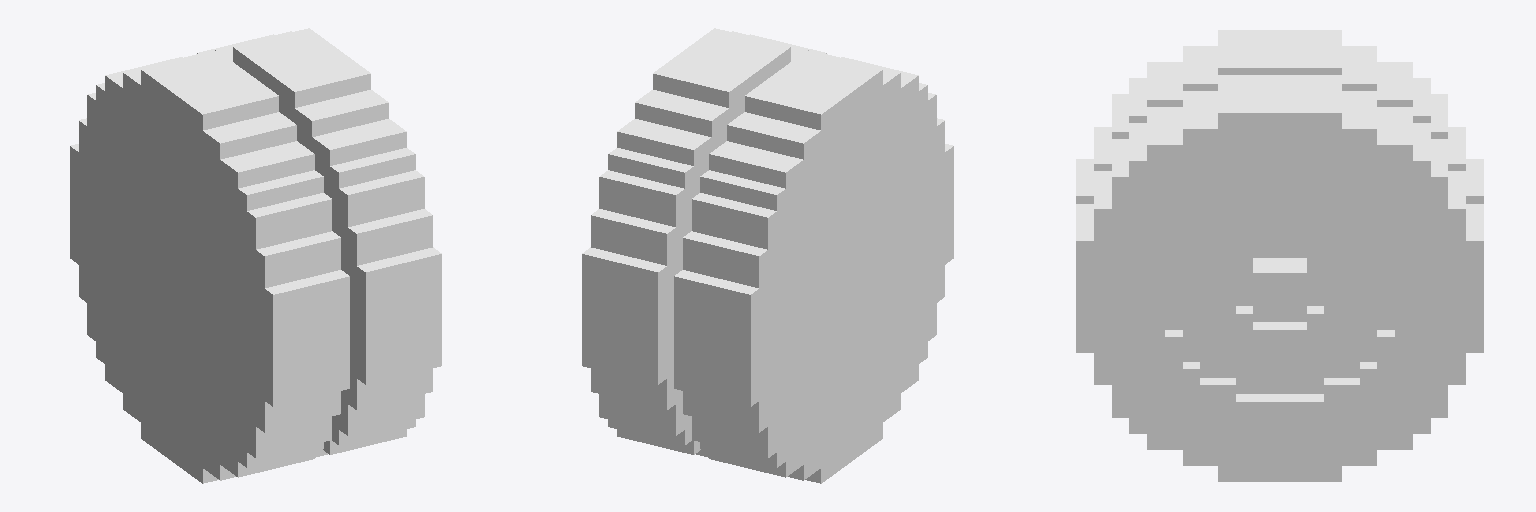
File: zil-130-3.obj
The picture shows the model from 3 angles: view 1: azimuth 30°, elevation 25°; view 2: azimuth 150°, elevation 25°; view 3: azimuth 270°, elevation 25°; orthographic projection.
Visible parts, largest first — view 1: object 1; view 2: object 1; view 3: object 1.
Part boxes in pixels (bbox=[...]): object 1: bbox=[70, 28, 441, 483]; object 1: bbox=[582, 28, 953, 483]; object 1: bbox=[1076, 30, 1483, 481].
Size of the model in its own units: 1.1 by 2.3 by 2.3.